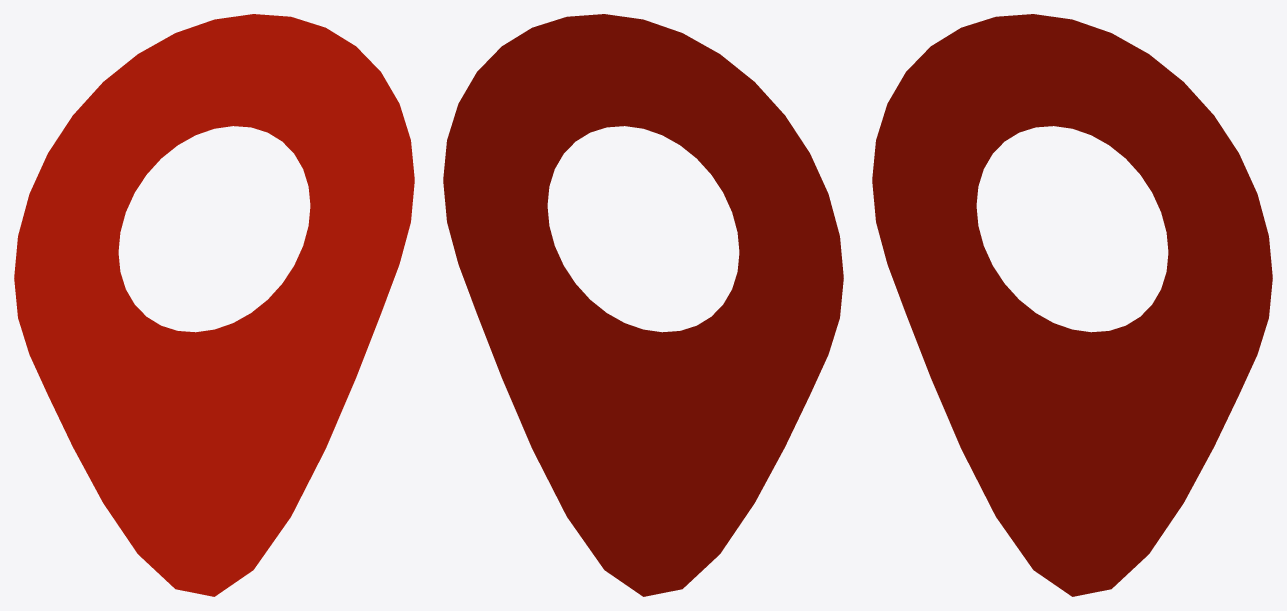
The model's file is pin.glb.
3 views of the same model, side by side, from view 1: azimuth 30°, elevation 25°; view 2: azimuth 150°, elevation 25°; view 3: azimuth 330°, elevation 25° (orthographic).
Visible parts, largest first — view 1: 円; view 2: 円; view 3: 円.
Boxes of the visible parts, x1,y1,x2,y2 form: 円: (14,14,414,596); 円: (443,14,843,596); 円: (872,14,1272,596).
Bounding box in the file's own units: 0.7751 × 1.07 × 4.62e-08.
